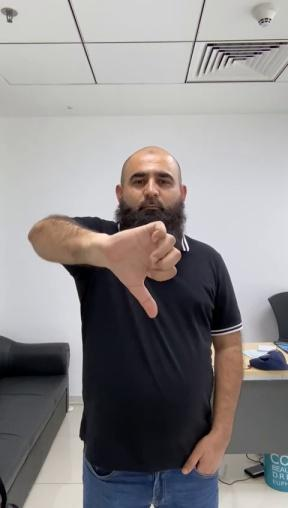thumbs-down: (112, 228, 188, 323)
